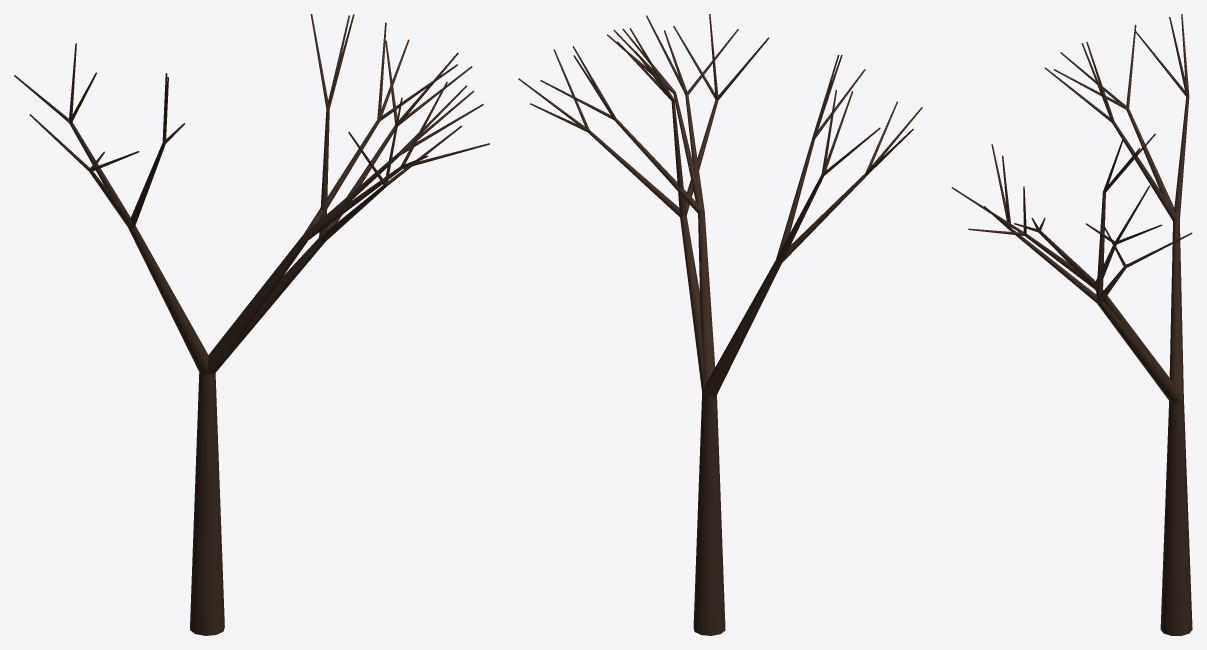
File: trunk_seed2279.glb
3 views of the same model, side by side, from view 1: azimuth 30°, elevation 25°; view 2: azimuth 150°, elevation 25°; view 3: azimuth 270°, elevation 25° (orthographic). The views are drawn at different scales.
Bounding box in the file's own units: 22.6 × 30.61 × 12.08.
